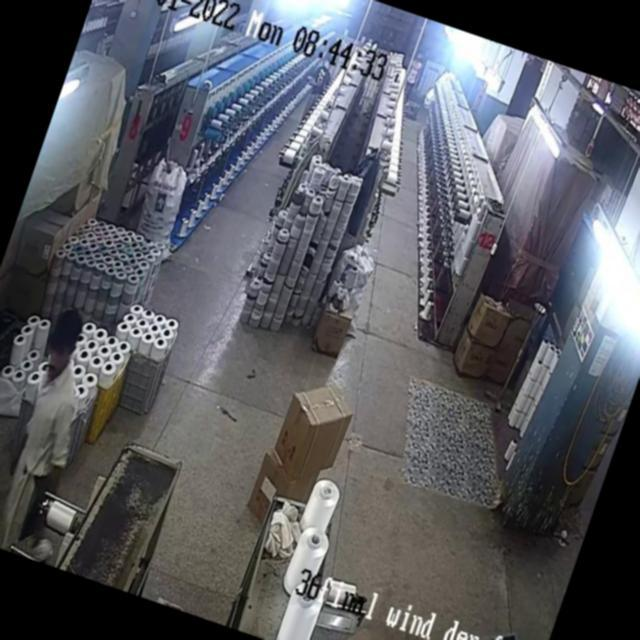person: (0, 308, 113, 522), (304, 52, 338, 105), (402, 50, 426, 99)
